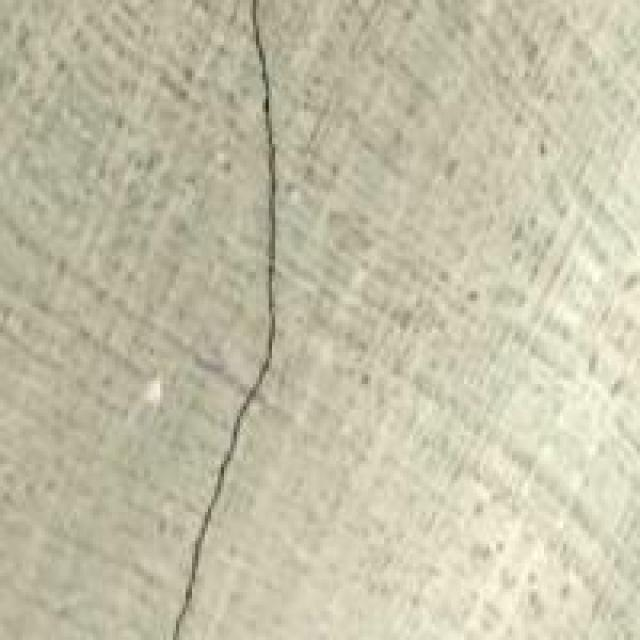crack: (134, 0, 372, 637)
